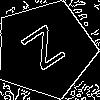Z: (20, 24, 74, 80)
